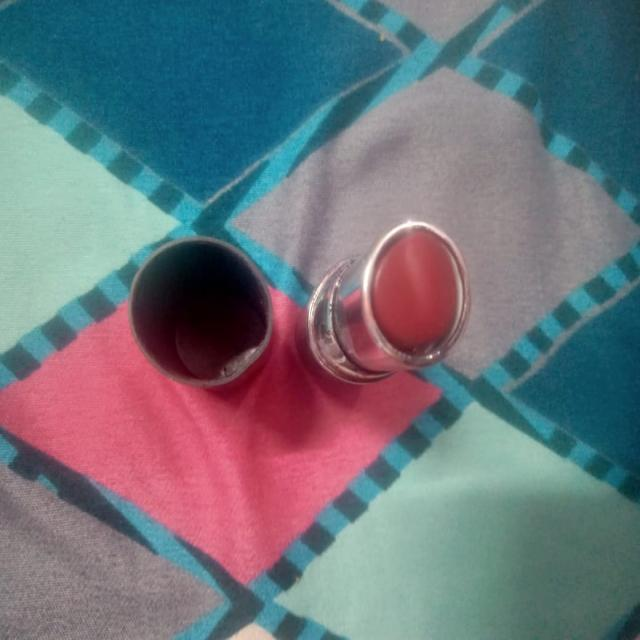lip stick: (294, 168, 482, 434)
